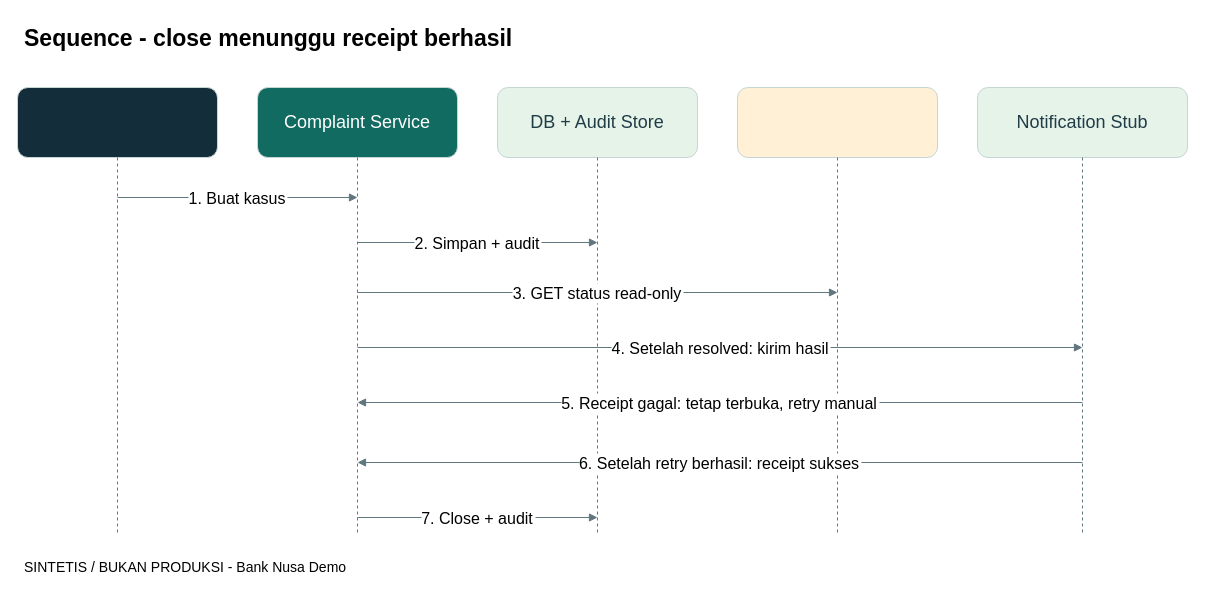
This 1205x599 diagram has some shape labels left out. Here are the shapes that lost their labels. From the top down, the centre of each, then its label:
At (x=117, y=122): "CS / WEB / Gateway".
At (x=837, y=122): "Core Simulator".
